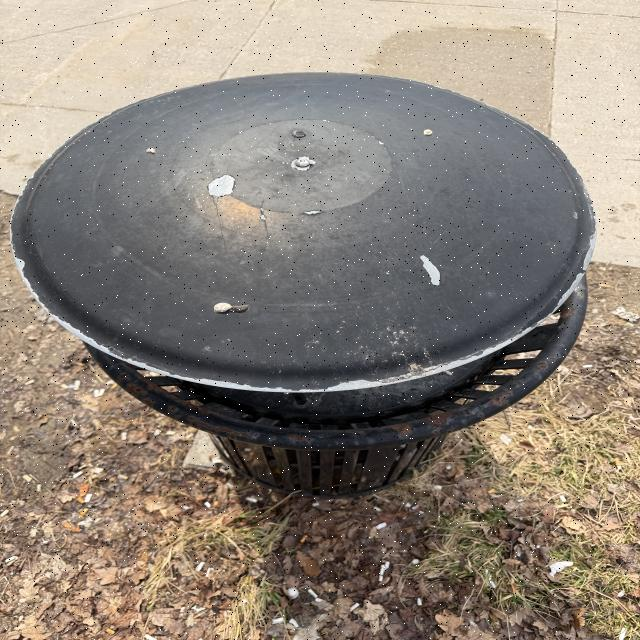Dustbin: (11, 72, 598, 503)
